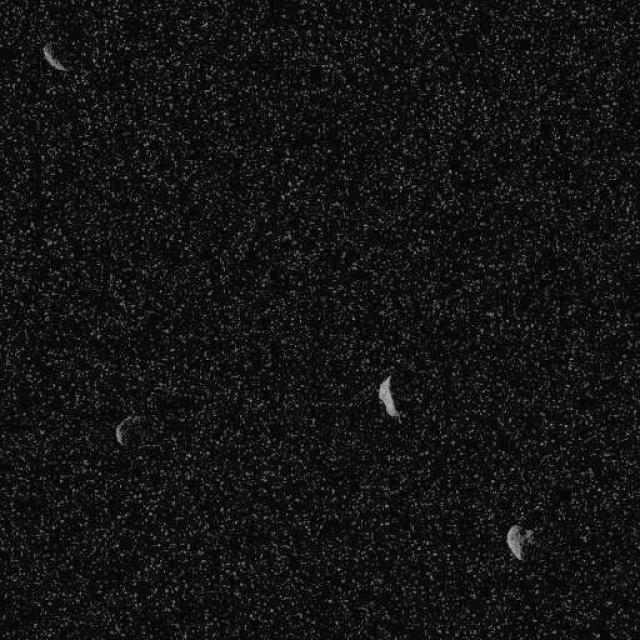D2: (376, 374, 402, 421), (505, 522, 534, 562), (114, 412, 142, 448), (40, 42, 70, 72)
